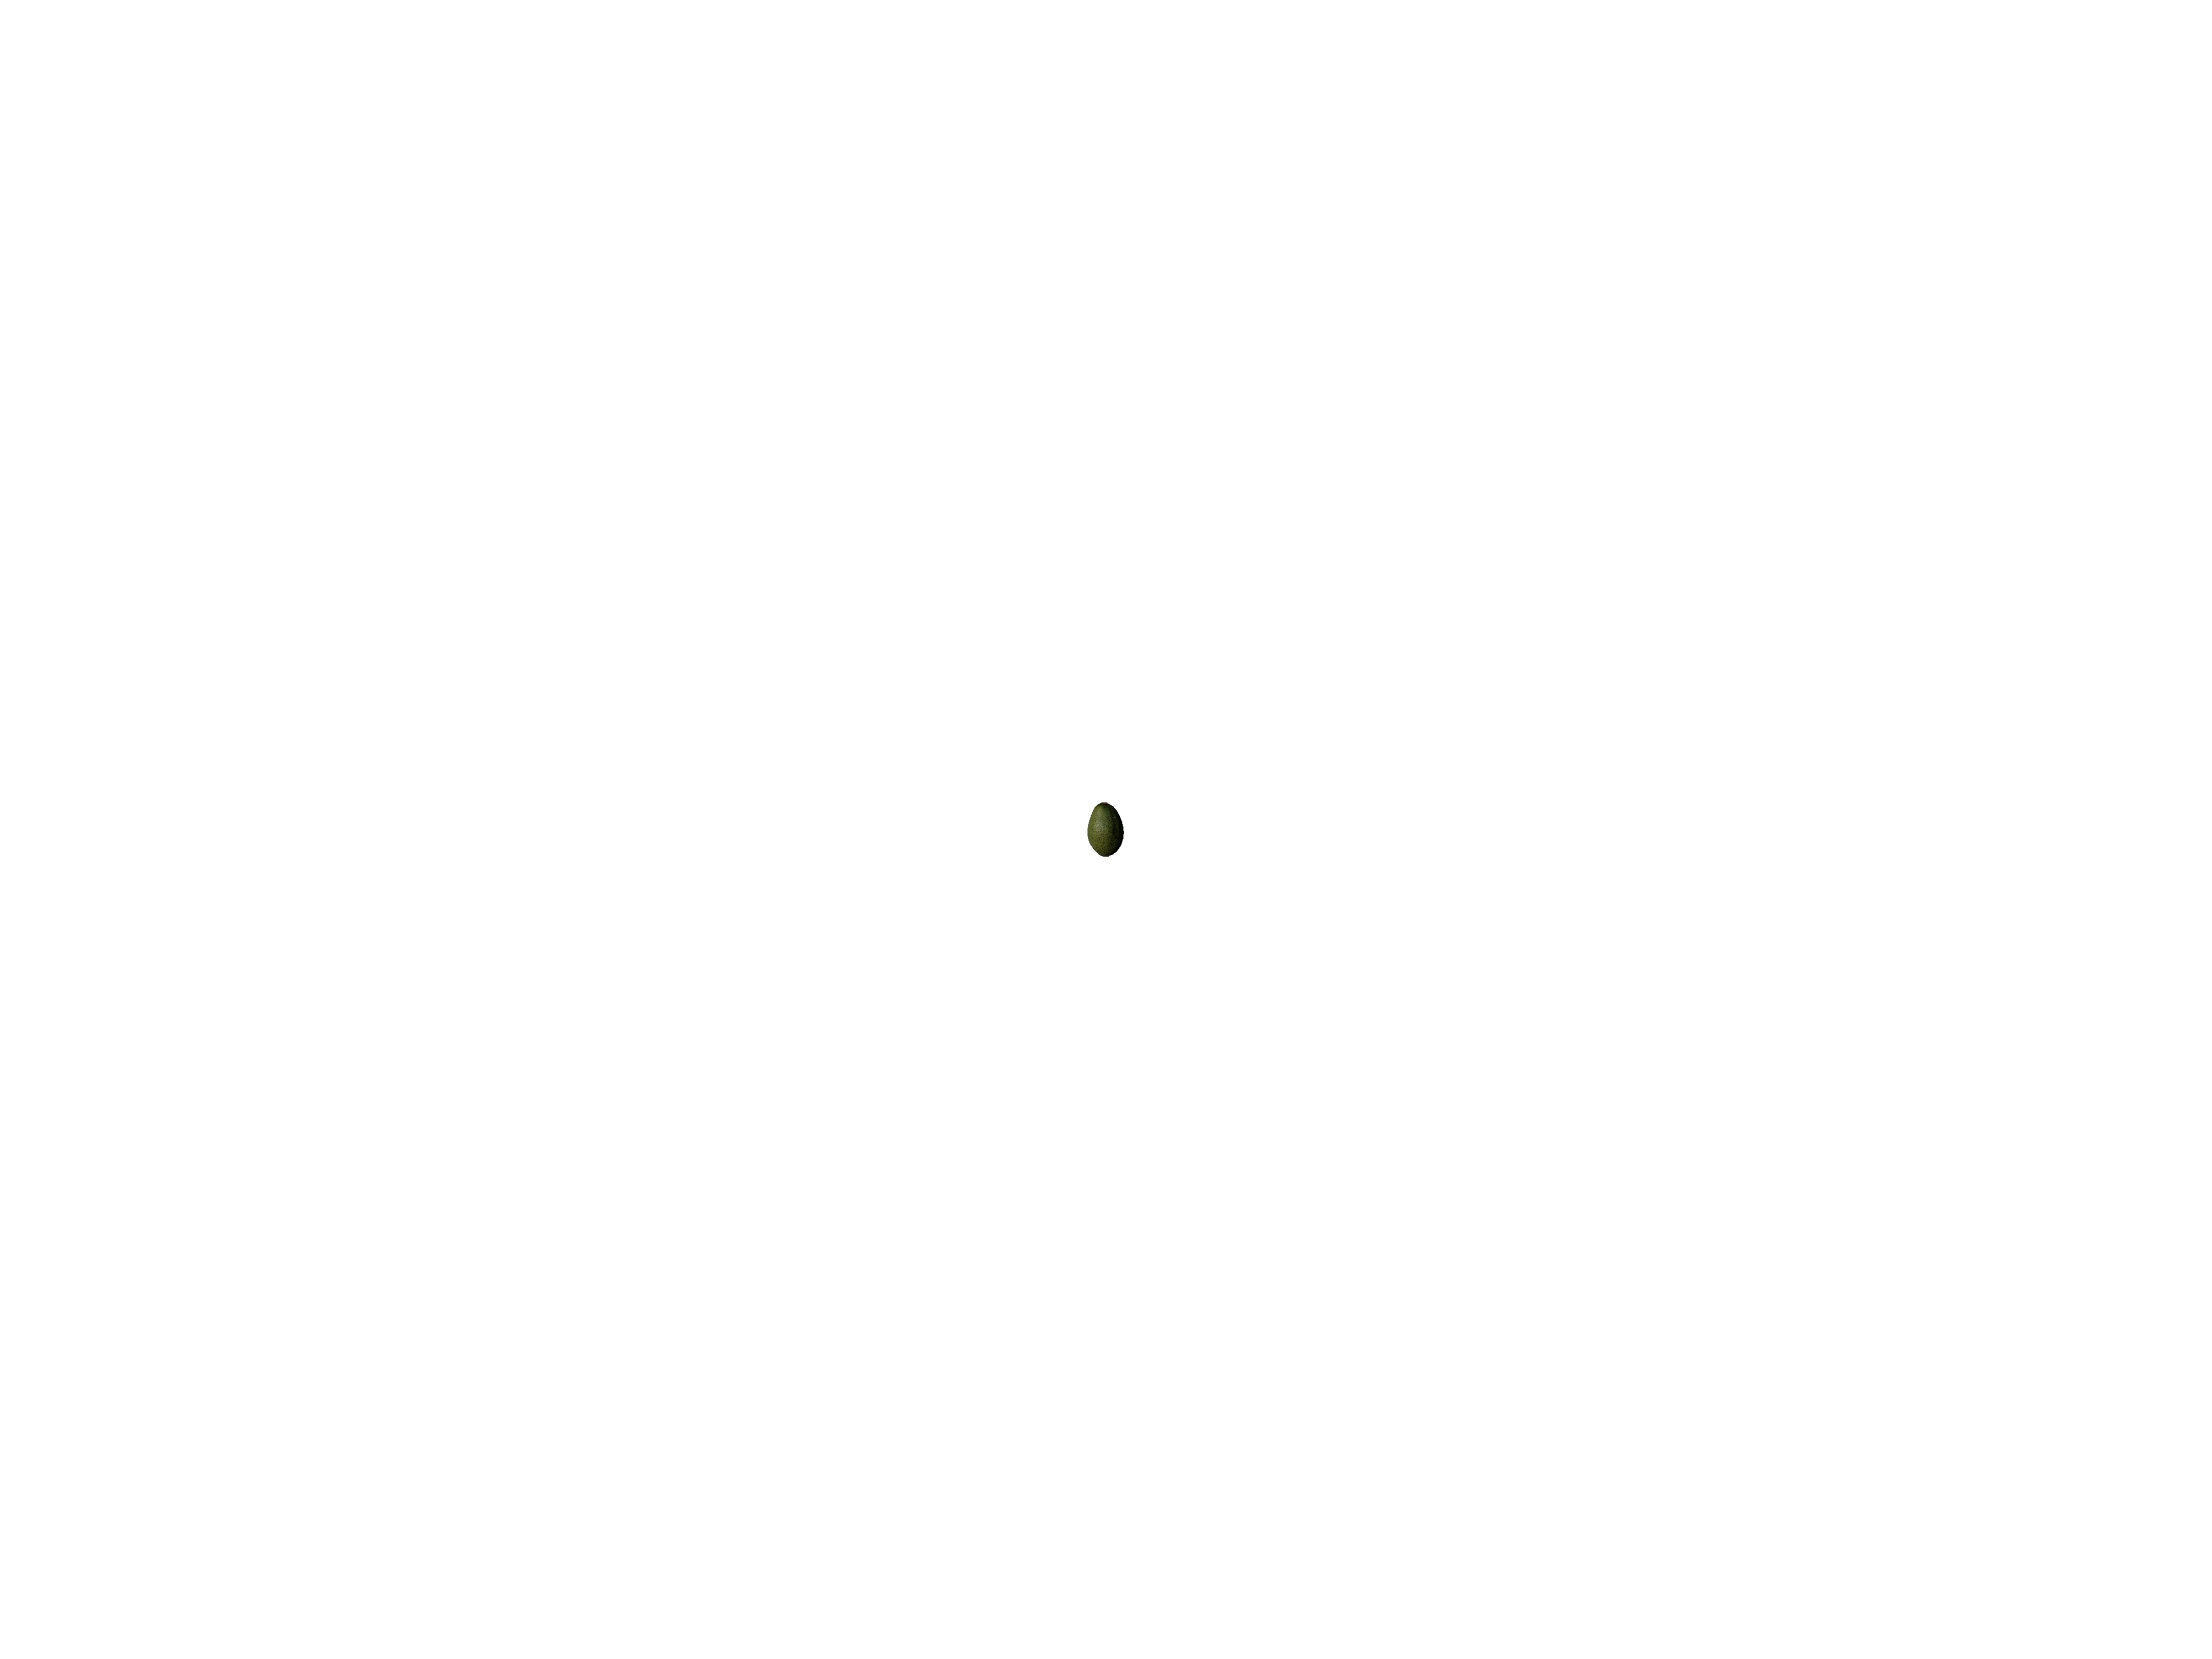abacate: (1083, 795, 1123, 864)
